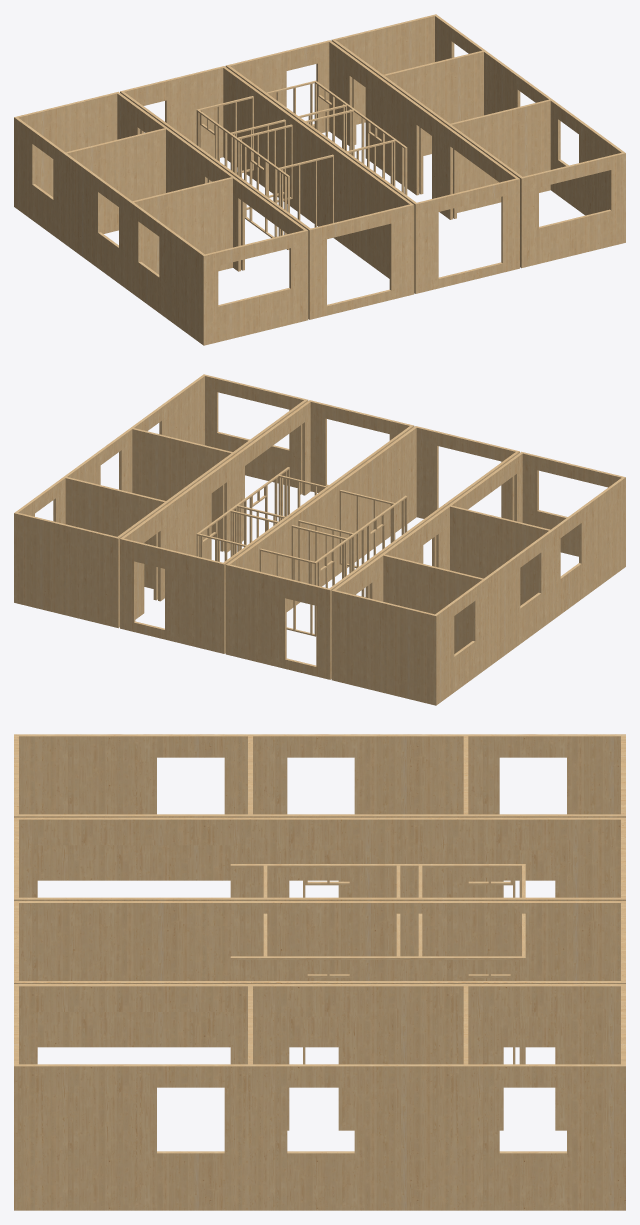
Rendered from Karkass_CLT.glb.
The picture shows the model from 3 angles, top to bottom: view 1: azimuth 30°, elevation 25°; view 2: azimuth 150°, elevation 25°; view 3: azimuth 270°, elevation 25°; orthographic projection. The views are drawn at different scales.
Visible parts, largest first — view 1: CLT_007 (×2), CLT_008 (×2); view 2: CLT_007 (×2), CLT_008 (×2); view 3: CLT_007 (×2), CLT_008 (×2), Post 45x95_3252 (×2).
Boxes of the visible parts, <box> form: CLT_007 (×2): <box>14,14,625,345</box>; CLT_008 (×2): <box>120,40,519,319</box>; CLT_007 (×2): <box>14,374,625,705</box>; CLT_008 (×2): <box>120,400,519,679</box>; CLT_007 (×2): <box>14,734,625,1210</box>; CLT_008 (×2): <box>14,817,625,1047</box>; Post 45x95_3252 (×2): <box>230,864,521,959</box>.
Bounding box in the file's own units: 15.15 × 3.07 × 11.8.
1 material, 1 textured.
